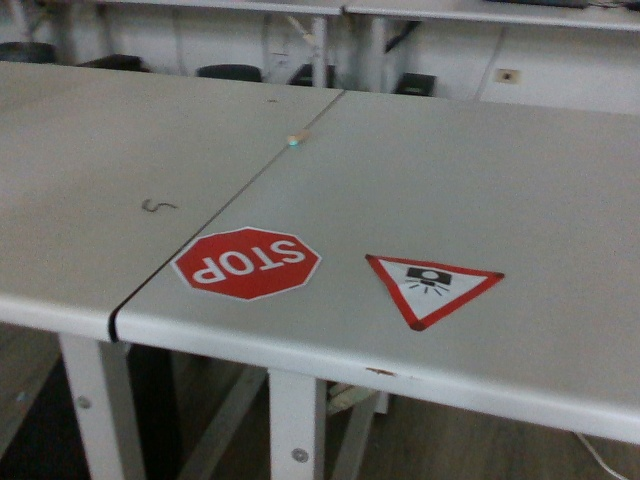camera: (364, 244, 507, 327)
stop: (170, 224, 324, 301)
